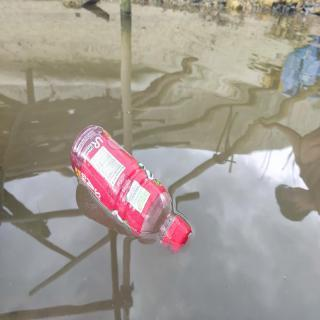bottle: (69, 120, 194, 256)
